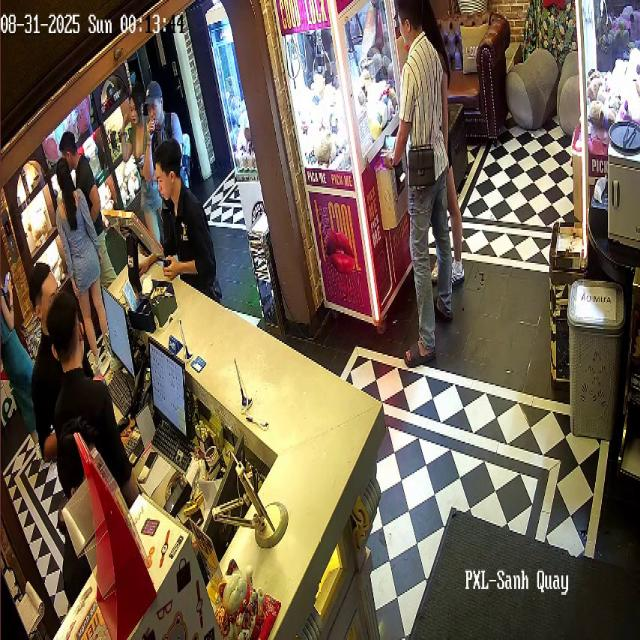khach: (382, 4, 452, 367), (422, 0, 467, 296), (52, 154, 110, 380), (55, 118, 116, 293), (0, 268, 31, 438), (120, 78, 148, 207), (144, 72, 176, 154)
nhan vien: (48, 293, 139, 527), (148, 140, 215, 306), (26, 252, 58, 494)
